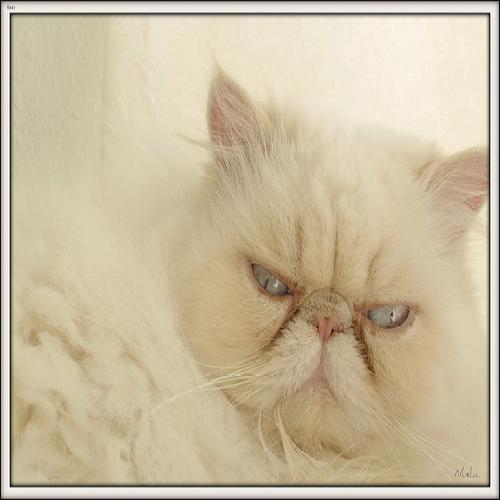persian: (171, 56, 486, 471)
